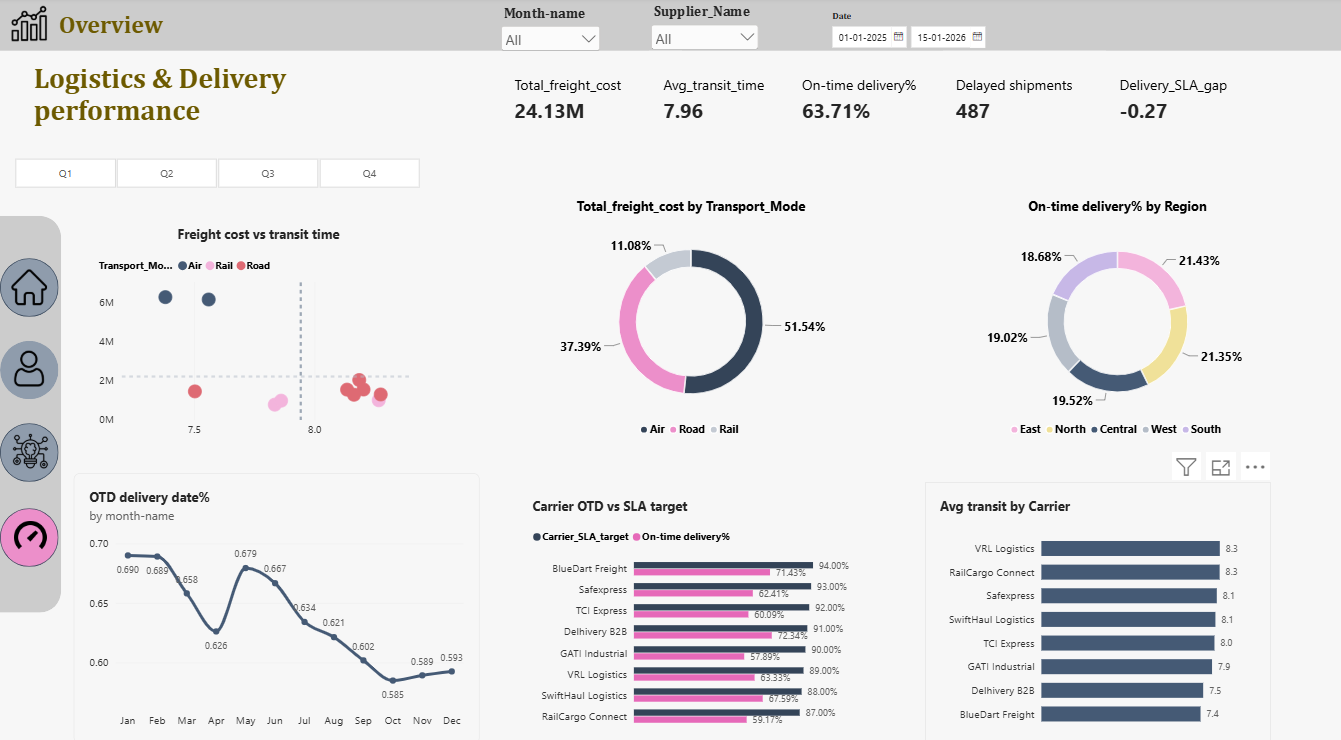

The page's visual inventory and layout, read from the dashboard file:
{"tool":"powerbi","page":{"name":"Logistics Performance","canvas":[1800,1000],"ordinal":3},"visuals":[{"type":"shape","box":[0,0,1799.6,72.1],"z":0},{"type":"shape","box":[0,292.9,82,532.1],"z":1000},{"type":"textbox","box":[78.6,17.9,151.8,44.6],"z":2000},{"type":"image","box":[14.3,10.7,48.2,51.8],"z":3000},{"type":"textbox","box":[45.2,87.1,471.4,98.2],"z":4000},{"type":"shape","box":[0,350,78.6,78.6],"z":5000},{"type":"shape","box":[0,460.7,78.6,78.6],"z":6000},{"type":"shape","box":[0,571.4,78.6,78.6],"z":7000},{"type":"shape","box":[0,685.7,78.6,78.6],"z":8000},{"type":"image","box":[14.3,364.3,48.2,51.8],"z":9000},{"type":"image","box":[14.3,473.2,48.2,51.8],"z":10000},{"type":"image","box":[16.1,583.9,48.2,51.8],"z":11000},{"type":"image","box":[16.1,698.2,48.2,51.8],"z":12000},{"type":"cardVisual","fields":{"Data":["3rd page measures.Total_freight_cost"]},"box":[673.4,72.7,194.9,131.1],"z":13000},{"type":"cardVisual","fields":{"Data":["3rd page measures.Avg_transit_time"]},"box":[872.7,72.7,182.5,131.1],"z":14000},{"type":"cardVisual","fields":{"Data":["1st page measures.On-time delivery%"]},"box":[1059.7,72.7,200.2,131.1],"z":15000},{"type":"cardVisual","fields":{"Data":["1st page measures.Delayed shipments"]},"box":[1264.3,72.7,216.2,131.1],"z":16000},{"type":"cardVisual","fields":{"Data":["3rd page measures.Delivery_SLA_gap"]},"box":[1484.9,72.7,209.1,131.1],"z":17000},{"type":"slicer","fields":{"Values":["Dim_date.month-name"]},"box":[666.9,10.1,142.4,62],"z":18000},{"type":"slicer","fields":{"Values":["Dim_supplier.Supplier_Name"]},"box":[868,8.4,154.2,62],"z":19000},{"type":"slicer","fields":{"Values":["Dim_date.Date"]},"box":[1107.6,18.4,264.7,53.6],"z":20000},{"type":"slicer","fields":{"Values":["Dim_date.Quartor"]},"box":[0,213.7,581.3,42.7],"z":21000},{"type":"scatterChart","title":"Freight cost vs transit time","fields":{"Category":["Dim_Carrier.Carrier_Name"],"Series":["Fact_procurement.Transport_Mode"],"X":["3rd page measures.Avg_transit_time"],"Y":["3rd page measures.Total_freight_cost"]},"box":[112.8,287.2,468.5,323.1],"z":22000},{"type":"clusteredBarChart","title":"Carrier OTD vs SLA target","fields":{"Category":["Dim_Carrier.Carrier_Name"],"Y":["3rd page measures.Carrier_SLA_target","1st page measures.On-time delivery%"]},"box":[694.2,649.7,465,350.5],"z":23000},{"type":"donutChart","fields":{"Category":["Fact_procurement.Transport_Mode"],"Y":["3rd page measures.Total_freight_cost"]},"box":[694.2,247.9,465,362.5],"z":24000},{"type":"clusteredBarChart","title":"Avg transit by Carrier","fields":{"Category":["Dim_Carrier.Carrier_Name"],"Y":["3rd page measures.Avg_transit_time"]},"box":[1239.6,649.7,465,350.5],"z":25000},{"type":"donutChart","fields":{"Category":["Dim_warehouse.Region"],"Y":["1st page measures.On-time delivery%"]},"box":[1292.6,247.9,412,362.5],"z":26000},{"type":"lineChart","fields":{"Category":["Dim_date.month-name"],"Y":["3rd page measures.OTD delivery date%"]},"box":[99.2,637.7,543.7,362.5],"z":27000}]}

Visuals, with their boxes on the page's 1800x1000 design canvas (x1, y1, x2, y2). These are canvas units, not pixel positions in the 1341x740 screenshot, which may show the page scaled, cropped or inside an application window:
shape: bbox=[0, 0, 1800, 72]
shape: bbox=[0, 293, 82, 825]
textbox: bbox=[79, 18, 230, 62]
image: bbox=[14, 11, 62, 62]
textbox: bbox=[45, 87, 517, 185]
shape: bbox=[0, 350, 79, 429]
shape: bbox=[0, 461, 79, 539]
shape: bbox=[0, 571, 79, 650]
shape: bbox=[0, 686, 79, 764]
image: bbox=[14, 364, 62, 416]
image: bbox=[14, 473, 62, 525]
image: bbox=[16, 584, 64, 636]
image: bbox=[16, 698, 64, 750]
cardVisual - 3rd page measures.Total_freight_cost: bbox=[673, 73, 868, 204]
cardVisual - 3rd page measures.Avg_transit_time: bbox=[873, 73, 1055, 204]
cardVisual - 1st page measures.On-time delivery%: bbox=[1060, 73, 1260, 204]
cardVisual - 1st page measures.Delayed shipments: bbox=[1264, 73, 1480, 204]
cardVisual - 3rd page measures.Delivery_SLA_gap: bbox=[1485, 73, 1694, 204]
slicer - Dim_date.month-name: bbox=[667, 10, 809, 72]
slicer - Dim_supplier.Supplier_Name: bbox=[868, 8, 1022, 70]
slicer - Dim_date.Date: bbox=[1108, 18, 1372, 72]
slicer - Dim_date.Quartor: bbox=[0, 214, 581, 256]
"Freight cost vs transit time" scatterChart: bbox=[113, 287, 581, 610]
"Carrier OTD vs SLA target" clusteredBarChart: bbox=[694, 650, 1159, 1000]
donutChart - Fact_procurement.Transport_Mode x 3rd page measures.Total_freight_cost: bbox=[694, 248, 1159, 610]
"Avg transit by Carrier" clusteredBarChart: bbox=[1240, 650, 1705, 1000]
donutChart - Dim_warehouse.Region x 1st page measures.On-time delivery%: bbox=[1293, 248, 1705, 610]
lineChart - Dim_date.month-name x 3rd page measures.OTD delivery date%: bbox=[99, 638, 643, 1000]
